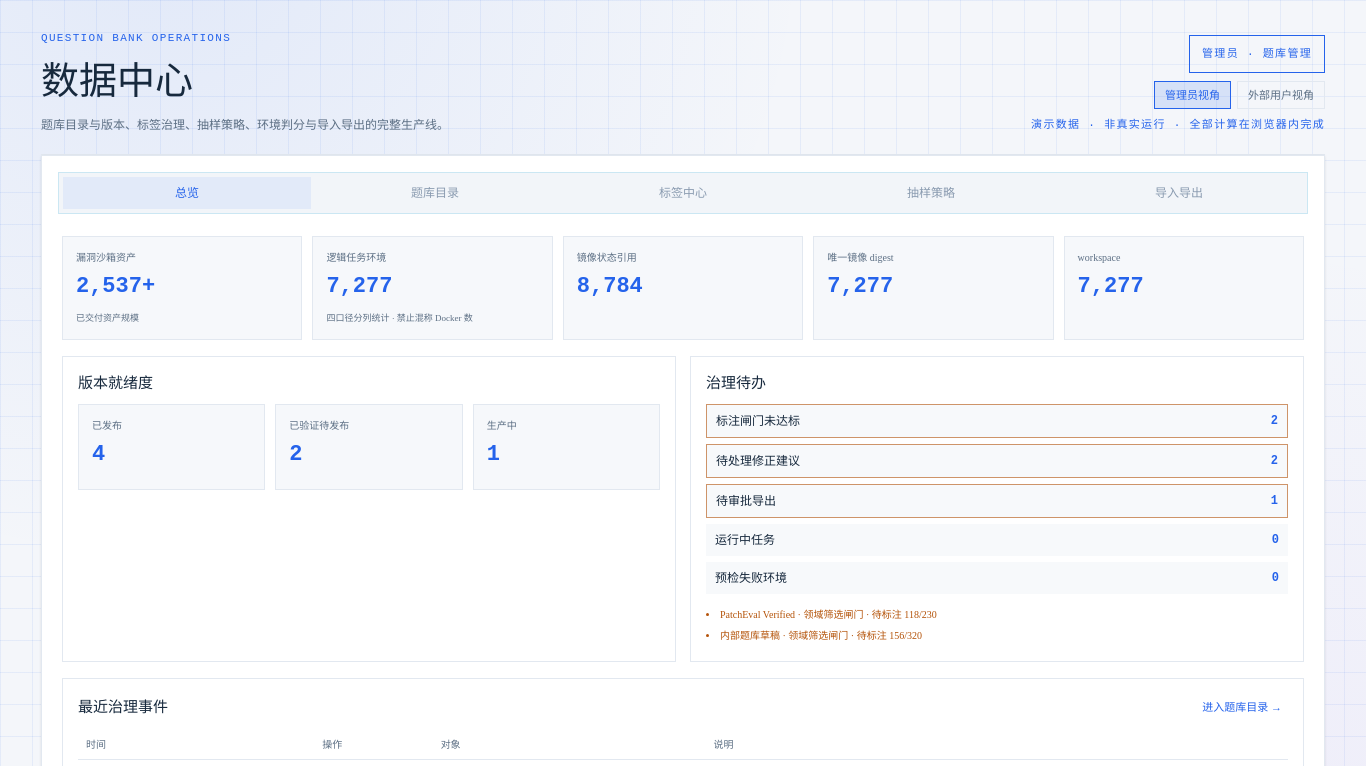
DataCenter question bank › lets an admin preview the external journey through the role toggle
Click the button "外部用户视角". click: (1281, 95)
box: [1237,81,1325,109]
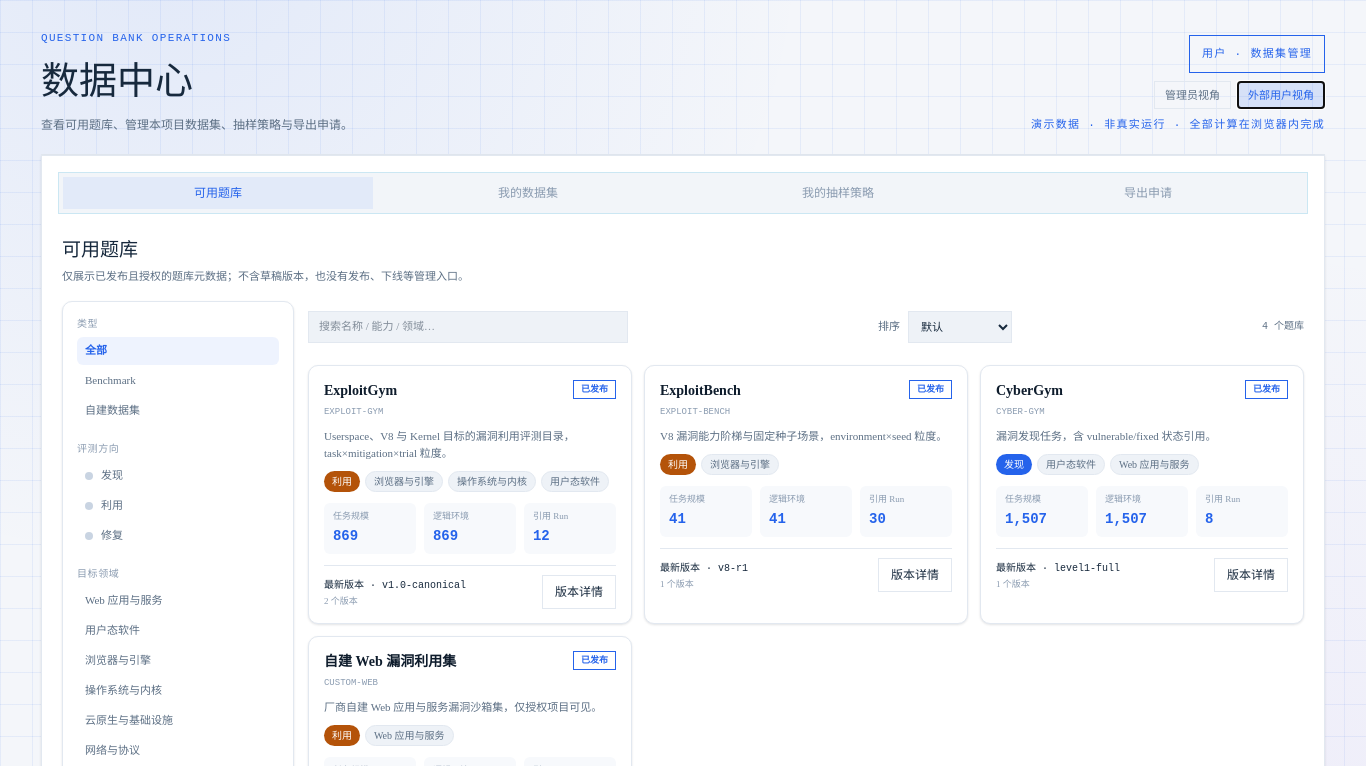
Now the tab "我的数据集" is shown, box [373,176,683,208]
Now the tab "可用题库" is shown, box [63,176,373,208]
Now the tab "我的抽样策略" is shown, box [683,176,993,208]
Click the button "管理员视角". click: (1192, 95)
box: [1154,81,1231,109]
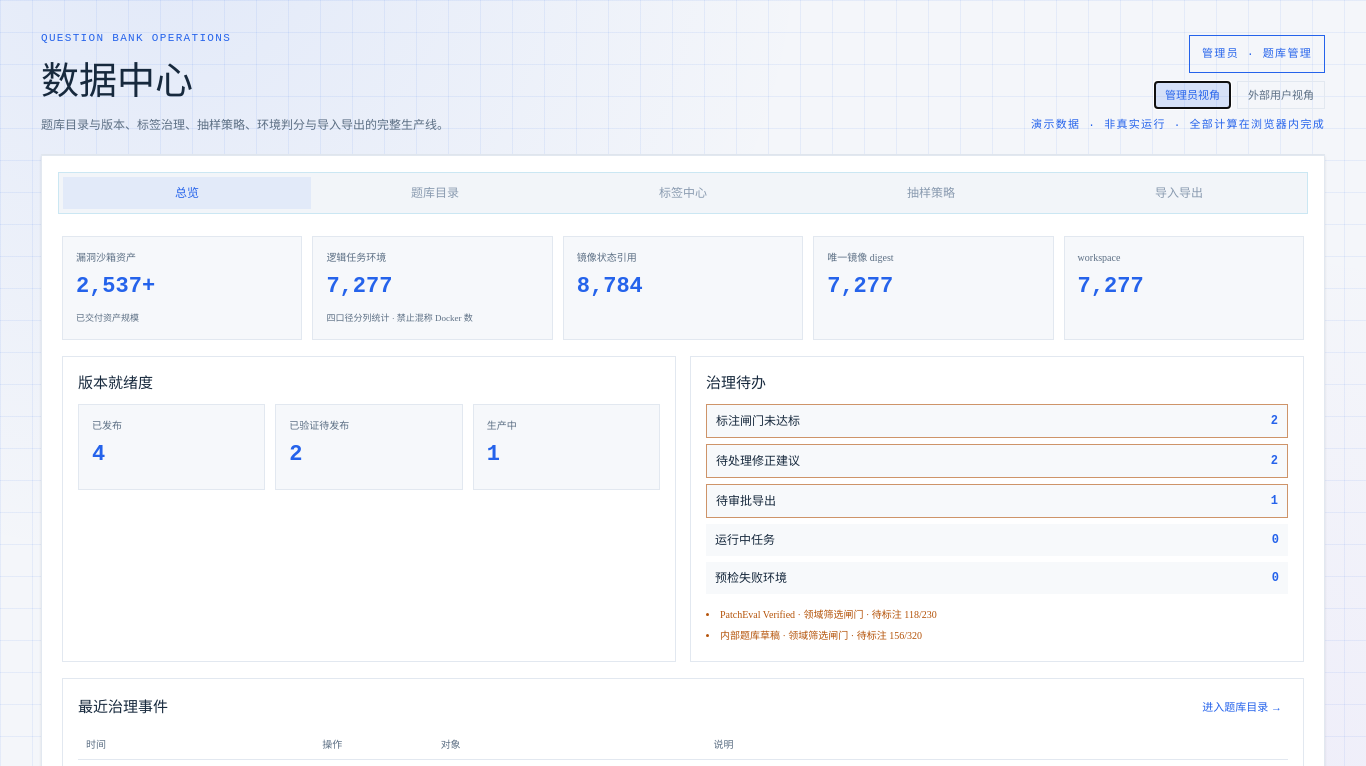
Now the tab "总览" is shown, box [63,176,311,208]
Now the tab "题库目录" is shown, box [311,176,559,208]
Now the tab "标签中心" is shown, box [559,176,807,208]
